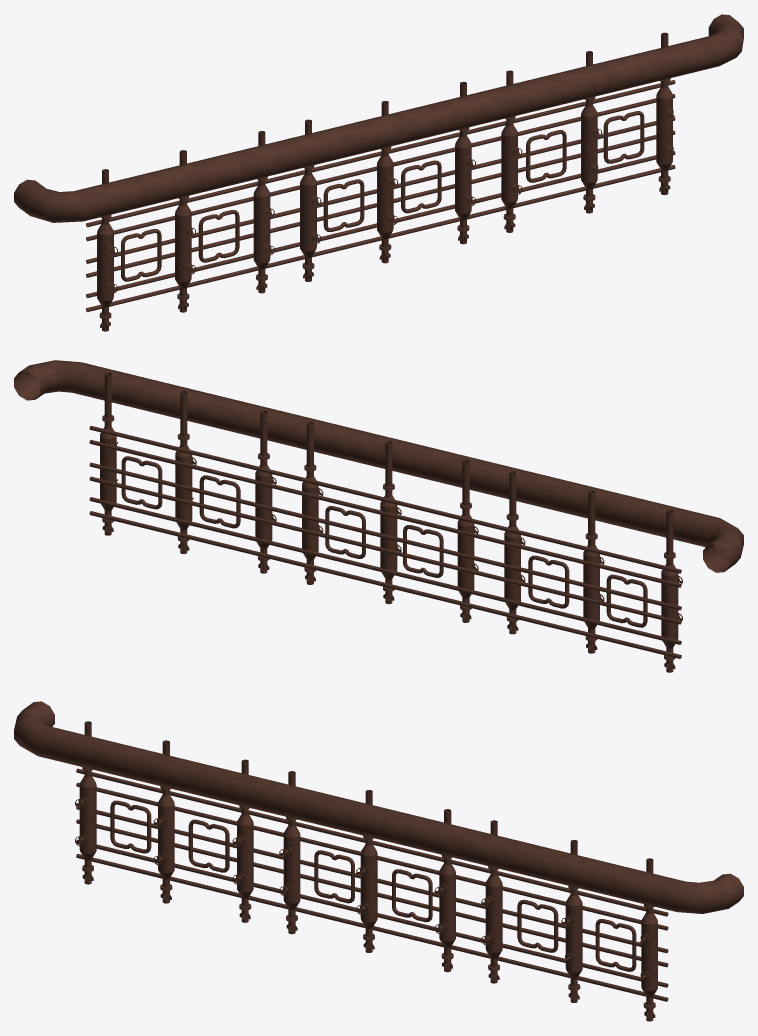
The model's file is PipesWithValves.fbx.
3 renders of one model, top to bottom at view 1: azimuth 30°, elevation 25°; view 2: azimuth 150°, elevation 25°; view 3: azimuth 330°, elevation 25°, orthographic.
Visible parts, largest first — view 1: Cube.068; view 2: Cube.068; view 3: Cube.068.
Boxes of the visible parts, <box> form: Cube.068: <box>14,14,743,331</box>; Cube.068: <box>14,360,743,672</box>; Cube.068: <box>14,701,743,1021</box>.
Bounding box in the file's own units: 3547 × 754 × 282.
